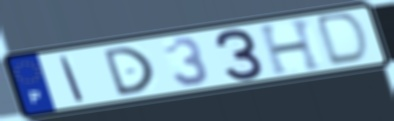3: (212, 27, 264, 83), (161, 35, 212, 89)
D: (315, 11, 371, 68), (100, 45, 157, 99)
H: (256, 16, 326, 77)
I: (57, 54, 87, 103)
